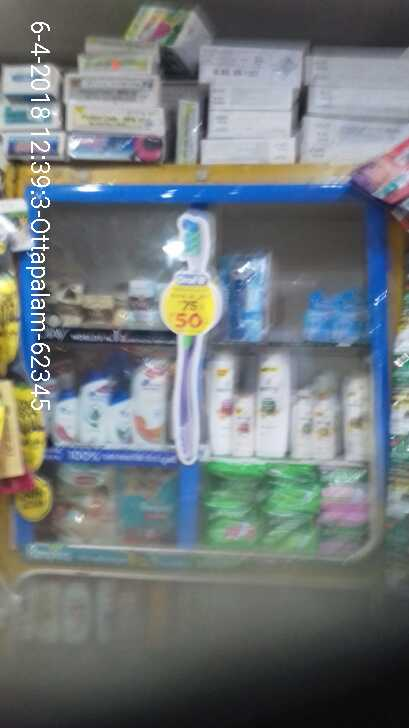venus: (222, 249, 270, 343), (303, 292, 366, 344)
